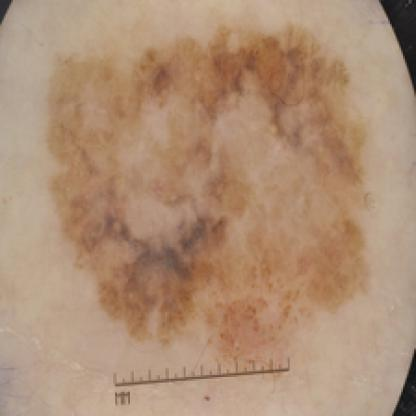malignant: (54, 35, 364, 323)
